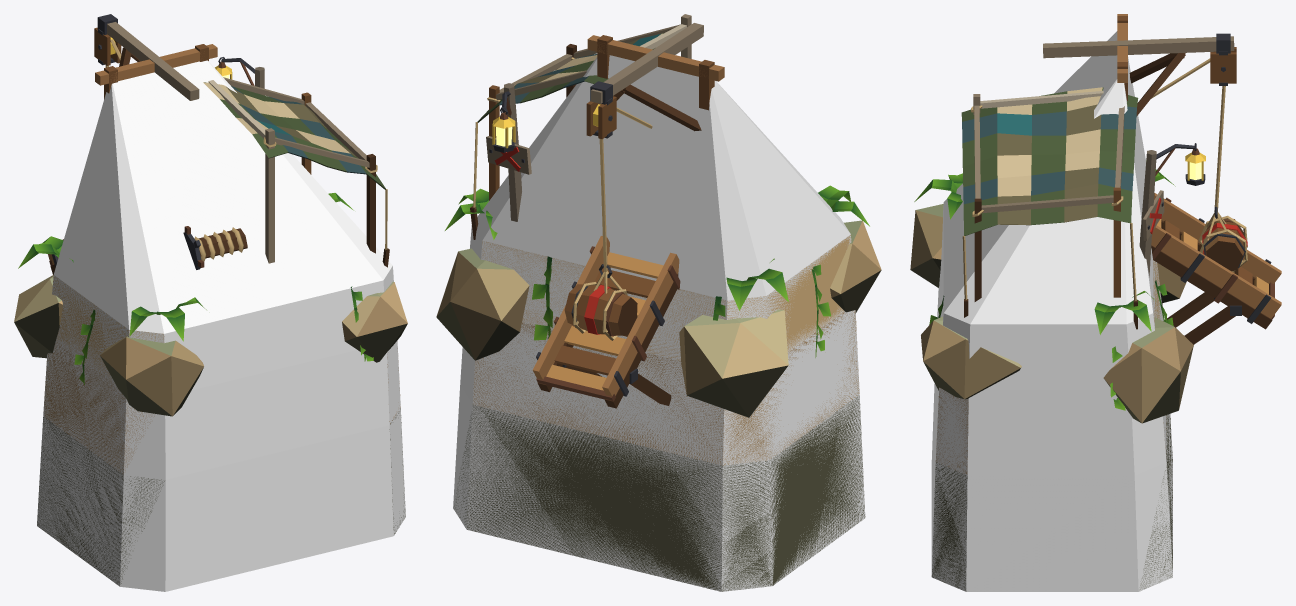
Rendered from smuggler_rope_cargo_hoist.glb.
The picture shows the model from 3 angles, left to right: view 1: azimuth 30°, elevation 25°; view 2: azimuth 150°, elevation 25°; view 3: azimuth 270°, elevation 25°; orthographic projection. The views are drawn at different scales.
Visible parts, largest first — view 1: col_hoist_base, SmugglerRopeCargoHoist; view 2: col_hoist_base, SmugglerRopeCargoHoist; view 3: col_hoist_base, SmugglerRopeCargoHoist.
Part boxes in pixels (bbox=[...]): col_hoist_base: bbox=[37, 60, 405, 591]; SmugglerRopeCargoHoist: bbox=[14, 14, 407, 586]; col_hoist_base: bbox=[453, 55, 865, 591]; SmugglerRopeCargoHoist: bbox=[436, 14, 881, 591]; col_hoist_base: bbox=[931, 31, 1172, 591]; SmugglerRopeCargoHoist: bbox=[910, 14, 1281, 590].
Bounding box in the file's own units: 5.75 × 7.77 × 5.6.
